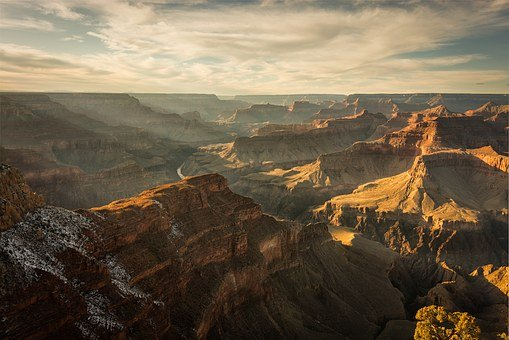mountain: (9, 90, 508, 334)
sky: (4, 2, 506, 90)
